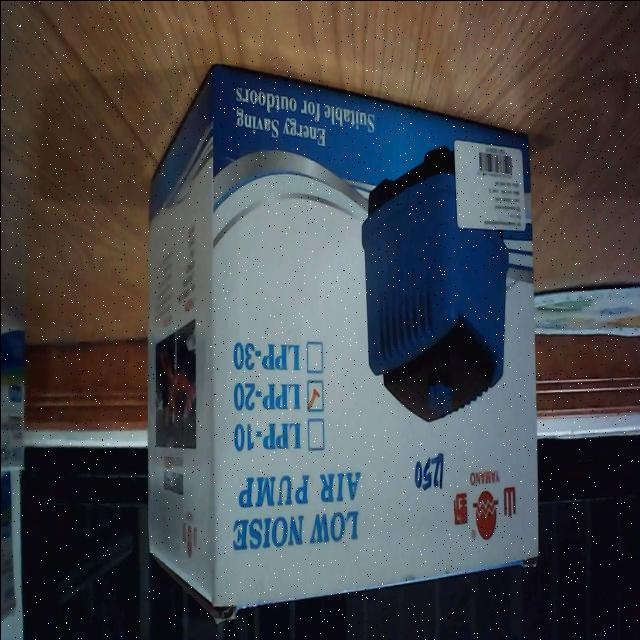YAMANO_LPP_20: (141, 44, 547, 634)
